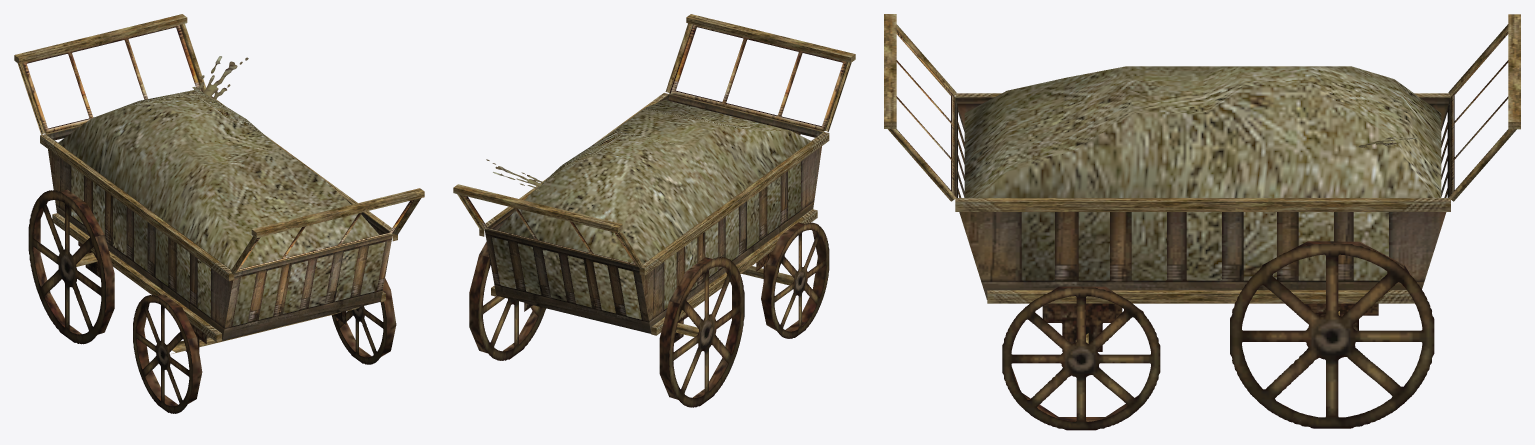
Rendered from farm_cart.glb.
The picture shows the model from 3 angles, left to right: view 1: azimuth 30°, elevation 25°; view 2: azimuth 150°, elevation 25°; view 3: azimuth 270°, elevation 25°; orthographic projection. The views are drawn at different scales.
Parts seen in each view (by area): view 1: farm_cart; view 2: farm_cart; view 3: farm_cart.
Part boxes in pixels (box(x1,y1,x2,y2)): farm_cart: box(14, 14, 424, 413); farm_cart: box(453, 14, 855, 407); farm_cart: box(884, 14, 1520, 430).
Bounding box in the file's own units: 1.96 × 2.02 × 3.92.
Materials: 1 (1 with a texture image).
